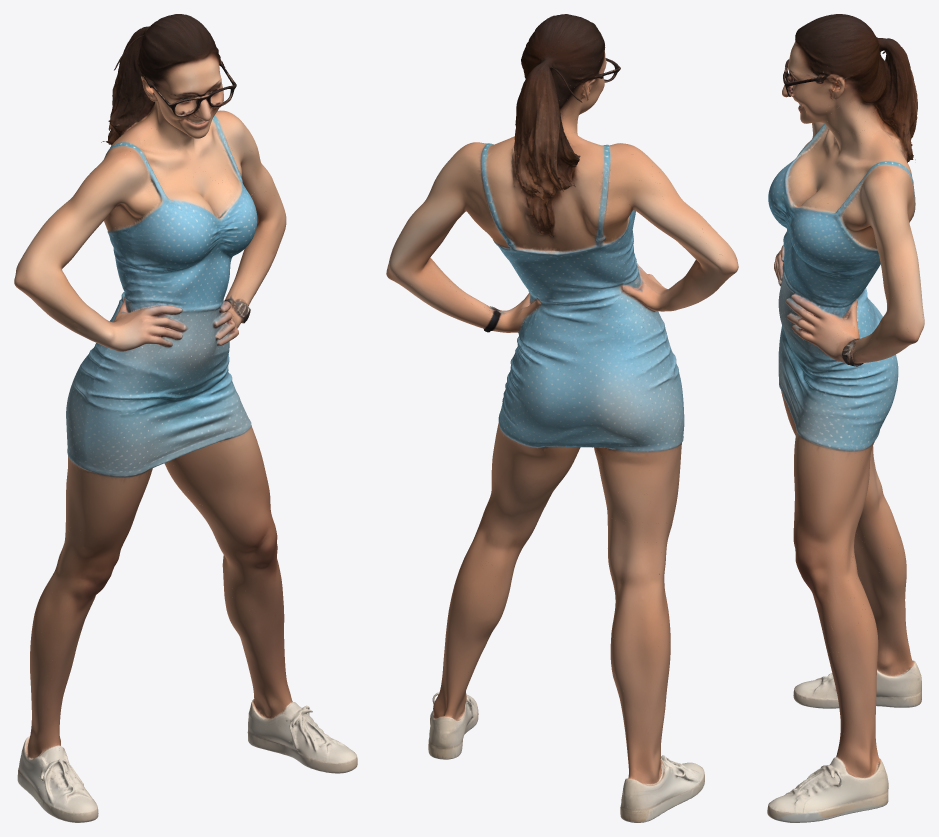
Rendered from skylar_breeze_a_casual_summer_character_scan.glb.
3 views of the same model, side by side, from view 1: azimuth 30°, elevation 25°; view 2: azimuth 150°, elevation 25°; view 3: azimuth 270°, elevation 25° (orthographic). The views are drawn at different scales.
Visible parts, largest first — view 1: Object_4, Object_5, Object_6; view 2: Object_5, Object_4, Object_6; view 3: Object_4, Object_5, Object_6.
Part boxes in pixels (bbox=[...]): Object_4: bbox=[14, 14, 357, 822]; Object_5: bbox=[17, 14, 312, 813]; Object_6: bbox=[36, 14, 291, 803]; Object_5: bbox=[389, 14, 730, 822]; Object_4: bbox=[386, 14, 738, 811]; Object_6: bbox=[432, 22, 720, 804]; Object_4: bbox=[767, 14, 924, 822]; Object_5: bbox=[819, 15, 923, 814]; Object_6: bbox=[840, 16, 870, 786].
Size of the model in its own units: 0.8343 by 1.9 by 0.3673.
1 material, 1 textured.
